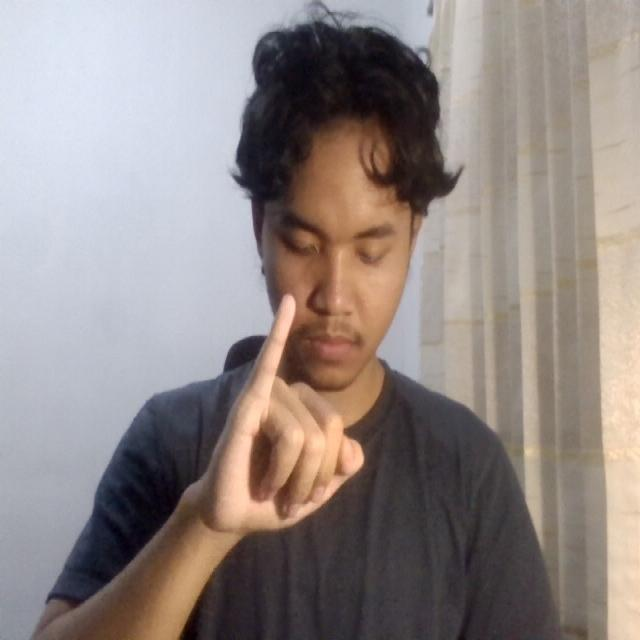Hello: (171, 277, 381, 559)
